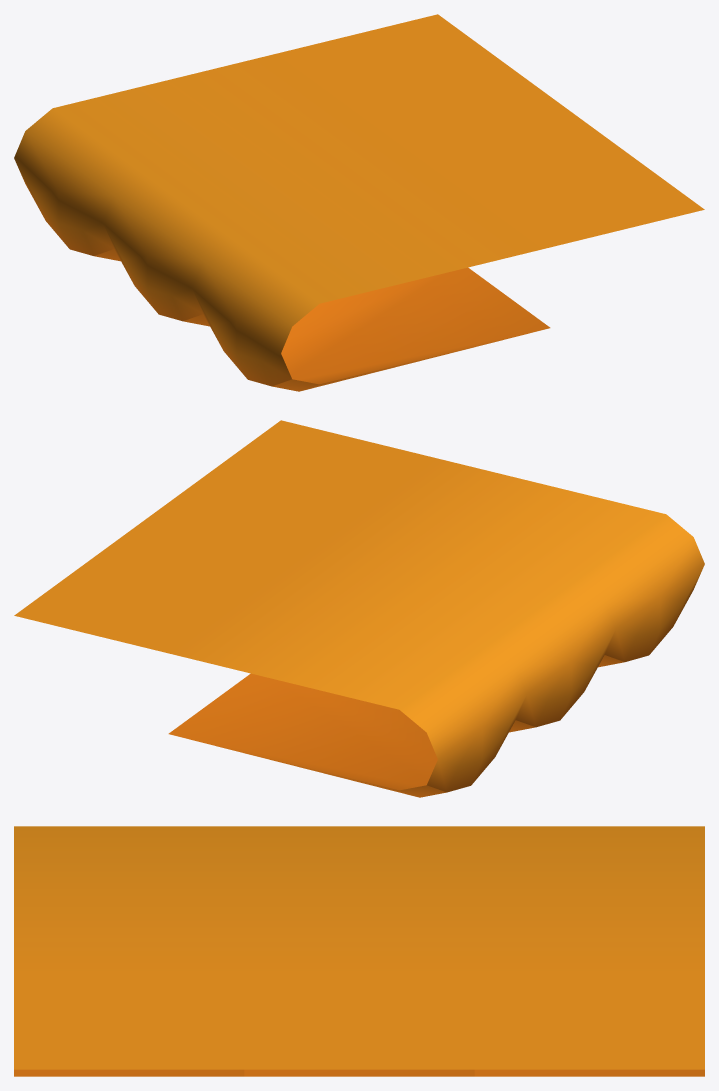
Rendered from Hill_Top_D_Side_Color6.fbx.
The picture shows the model from 3 angles, top to bottom: view 1: azimuth 30°, elevation 25°; view 2: azimuth 150°, elevation 25°; view 3: azimuth 270°, elevation 25°; orthographic projection. The views are drawn at different scales.
Visible parts, largest first — view 1: Hill_Top_D_Side_Color6; view 2: Hill_Top_D_Side_Color6; view 3: Hill_Top_D_Side_Color6.
Part boxes in pixels (<box>): Hill_Top_D_Side_Color6: <box>14,14,704,391</box>; Hill_Top_D_Side_Color6: <box>14,420,704,797</box>; Hill_Top_D_Side_Color6: <box>14,826,704,1076</box>.
Size of the model in its own units: 2.75 by 0.7052 by 3.
